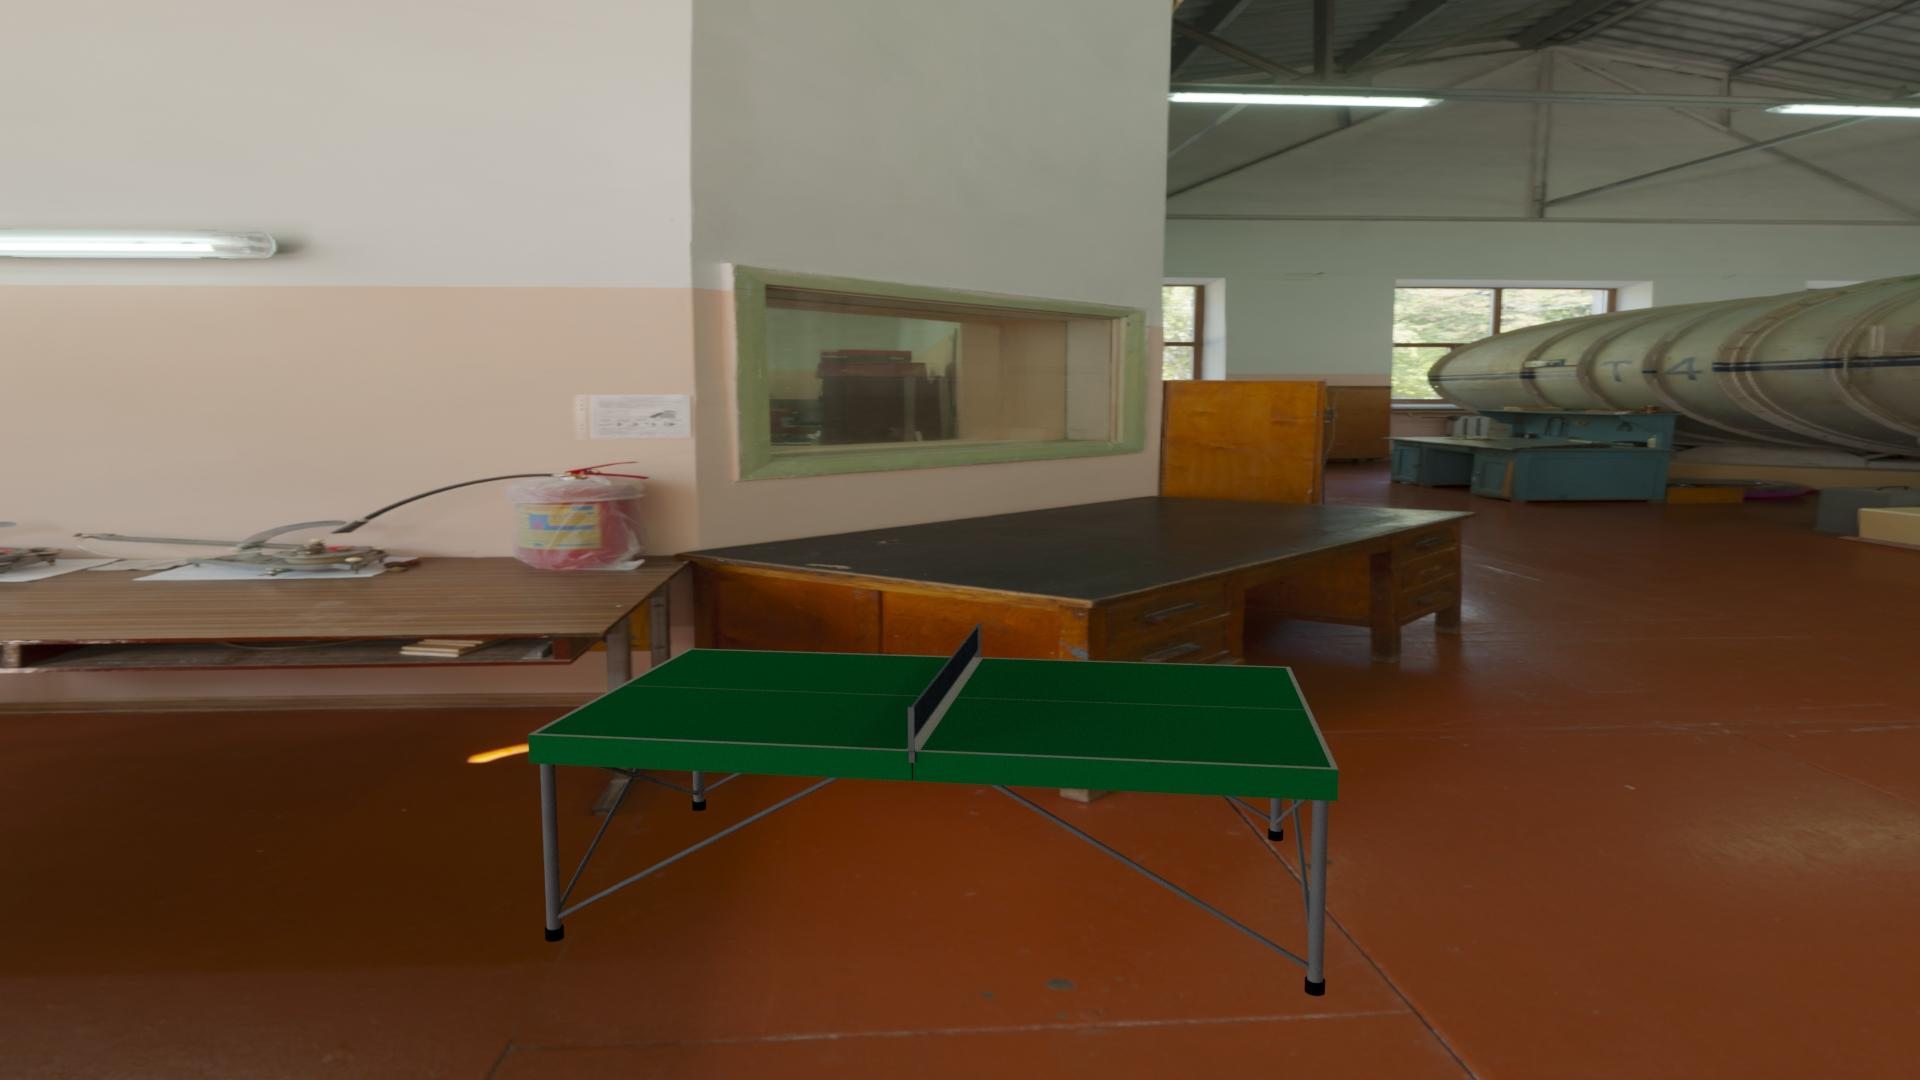table: (537, 649, 1332, 767)
